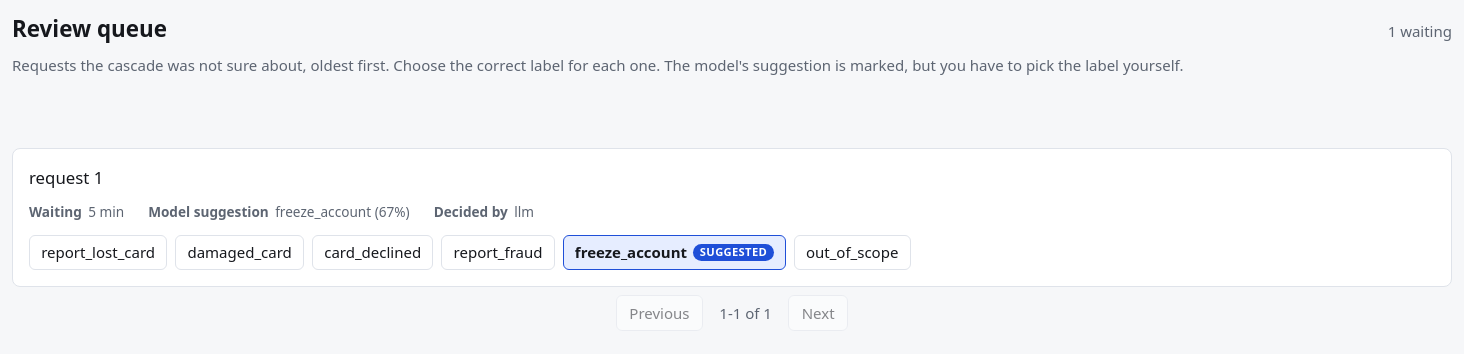
Test case: when a decision fails › can decide again after a failure
expect the list item "request 1" is shown: met, box [12, 148, 1452, 287]
Click the button "report_fraud" at (498, 253), box [441, 235, 555, 270]
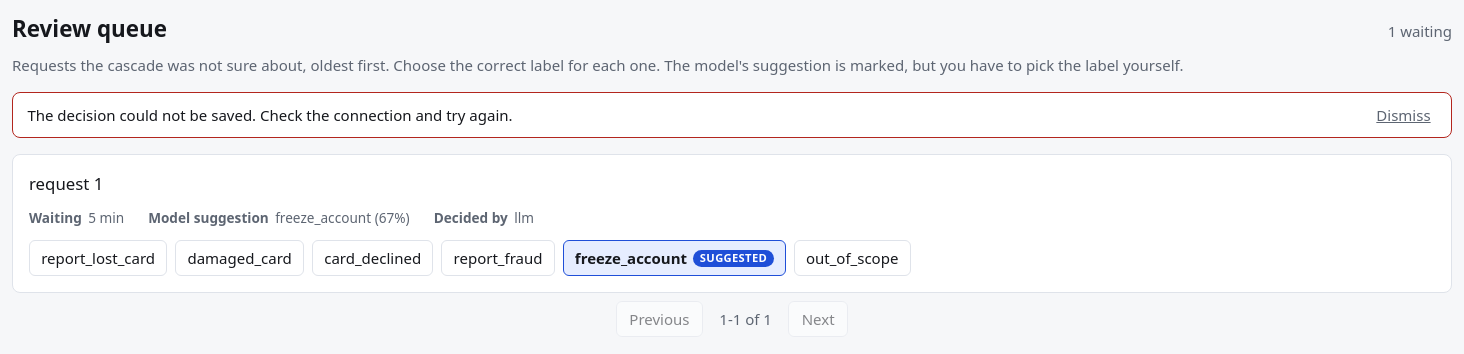
expect the button "report_lost_card" is enabled: met, box [29, 240, 167, 276]
expect the text "could not be saved" is shown: met, box [27, 105, 513, 125]
Click the button "report_fraud" at (498, 258), box [441, 240, 555, 276]
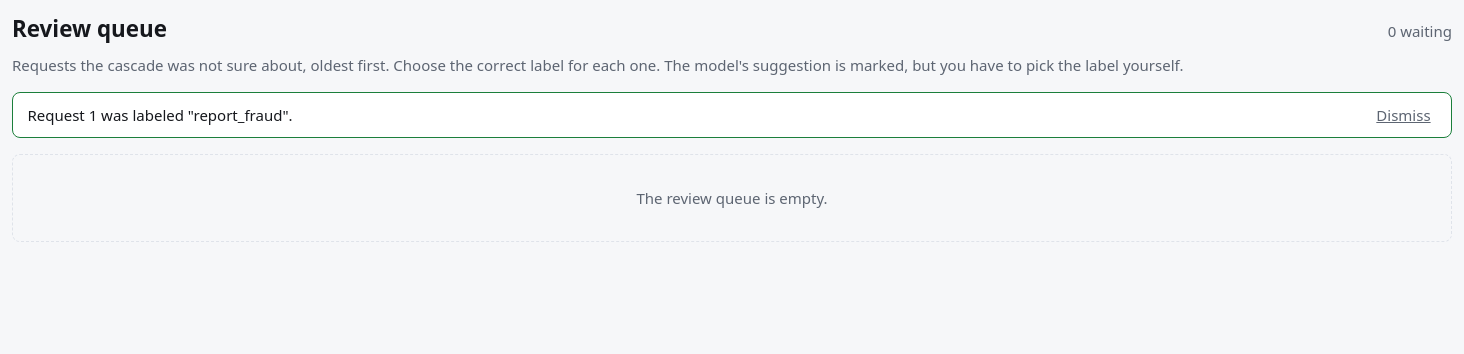
expect the text "The review queue is empty." is shown: met, box [12, 154, 1452, 242]
